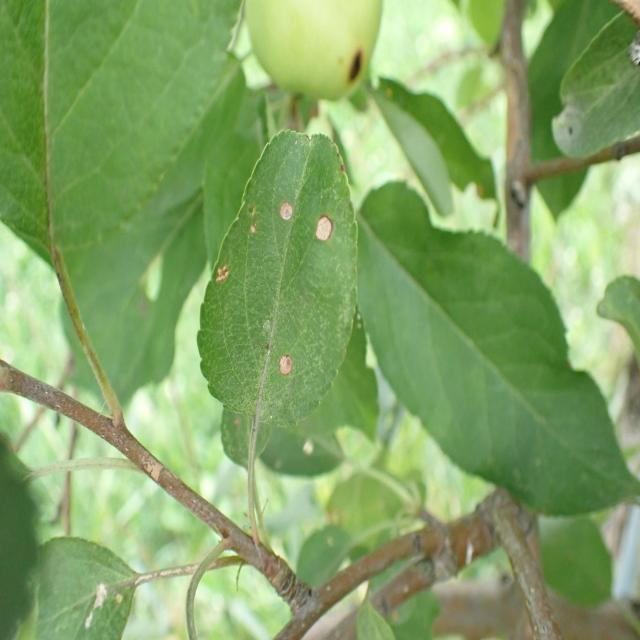frog-eye-leaf-spot: (196, 128, 360, 459)
